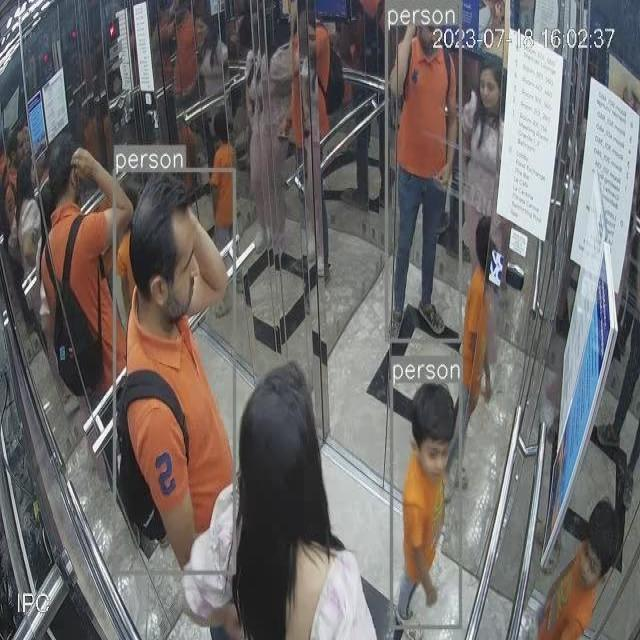person: (179, 342, 385, 640), (111, 170, 235, 578), (386, 22, 455, 338), (33, 140, 116, 388), (391, 380, 461, 625), (538, 486, 622, 640), (459, 49, 501, 231)
